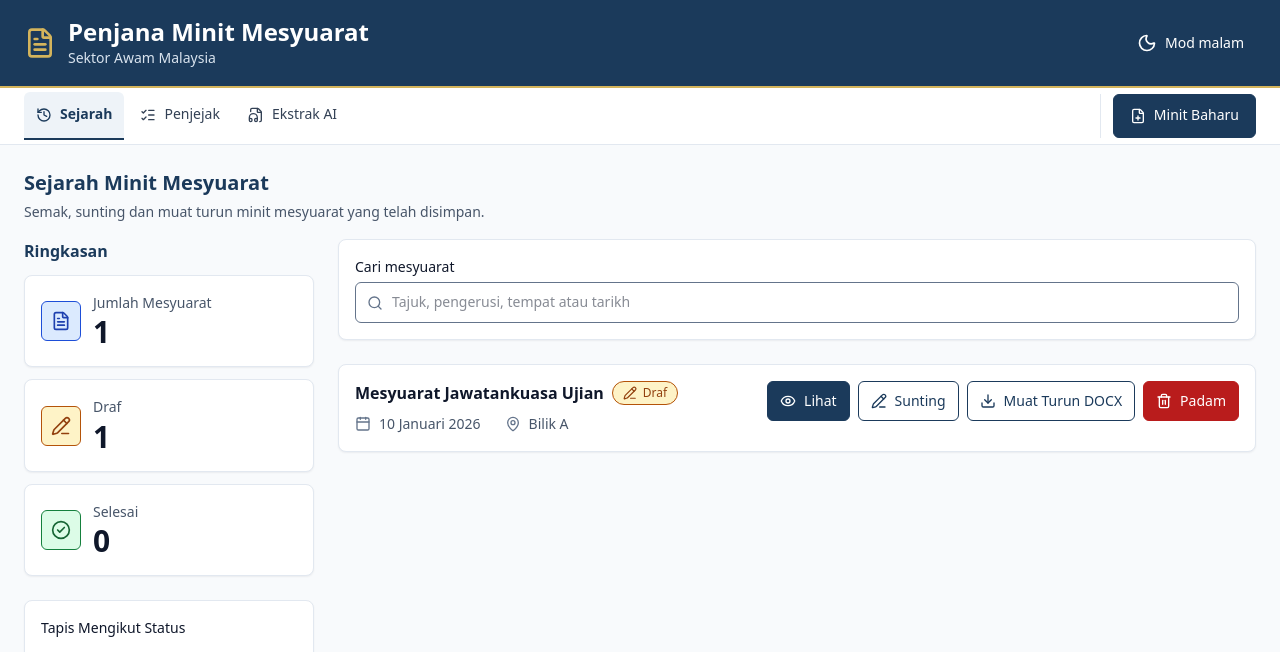
Test case: App navigation › Minit Baharu opens a blank editor
Expected: the heading "Mesyuarat Jawatankuasa Ujian" is shown, [355,381,604,405]
Click the button "Minit Baharu".
click(1184, 116)  # box [1113,94,1256,138]
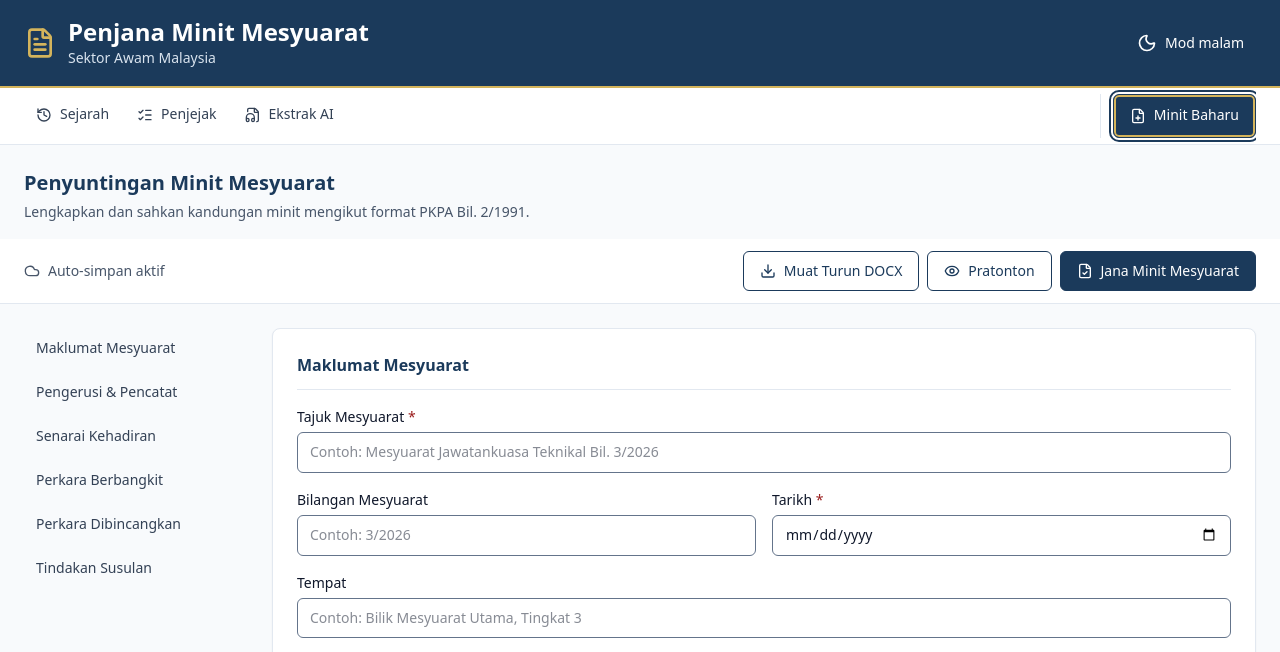
Expected: the field labelled "Tajuk Mesyuarat *" is empty, [297,432,1231,473]
Result: the heading "Penyuntingan Minit Mesyuarat" is shown at [24,169,335,196]
